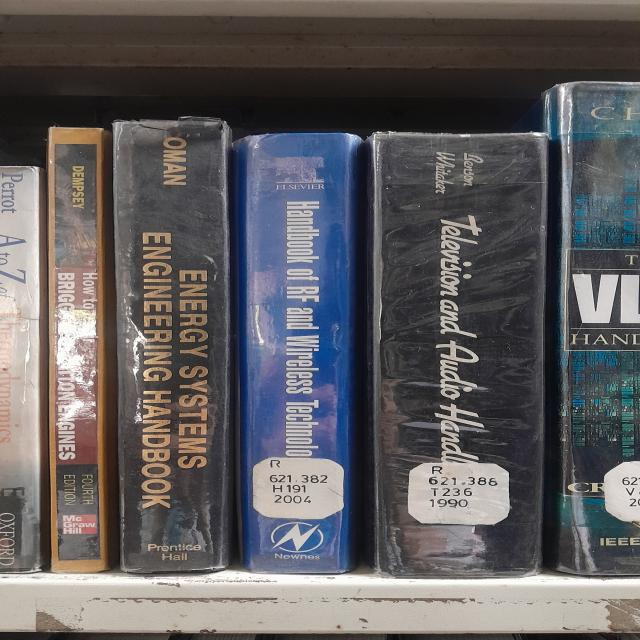book: (367, 132, 549, 579), (235, 133, 360, 573), (113, 117, 233, 573), (548, 83, 640, 575), (48, 128, 111, 571), (0, 166, 45, 572)
